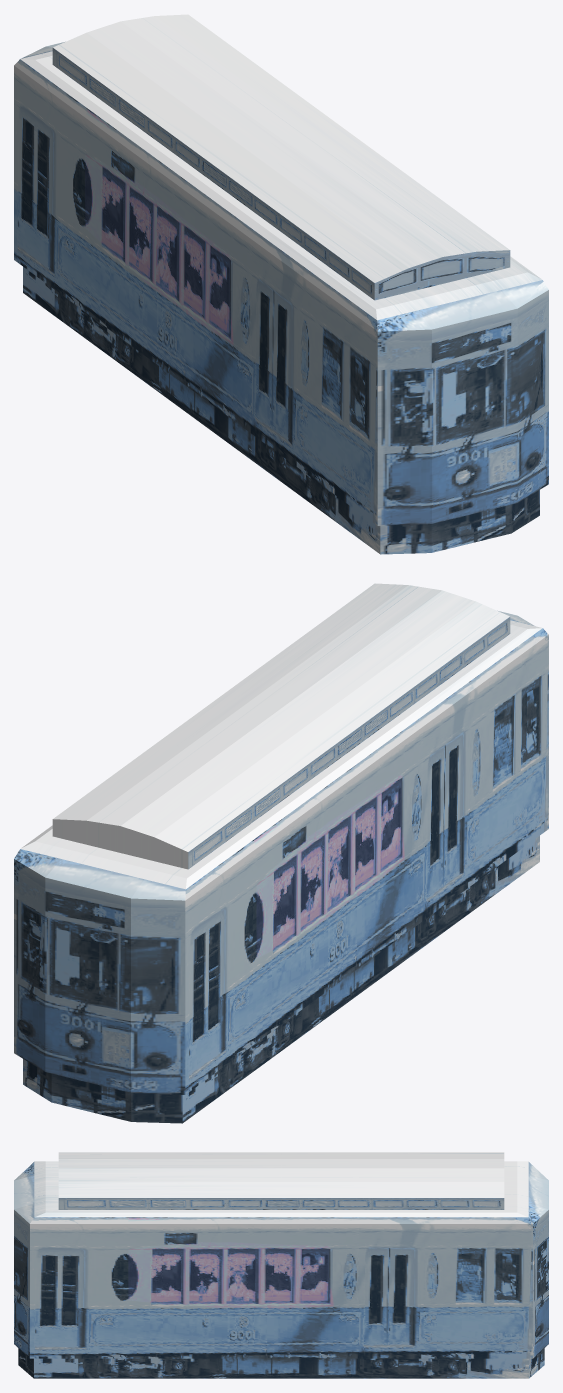
The model's file is Tram Test.fbx.
3 views of the same model, one above another, from view 1: azimuth 30°, elevation 25°; view 2: azimuth 150°, elevation 25°; view 3: azimuth 270°, elevation 25° (orthographic). The views are drawn at different scales.
Parts seen in each view (by area): view 1: Cube; view 2: Cube; view 3: Cube.
Boxes of the visible parts, x1,y1,x2,y2 form: Cube: [14, 14, 548, 554]; Cube: [14, 583, 548, 1123]; Cube: [14, 1152, 548, 1378].
Size of the model in its own units: 200 by 295 by 781.
